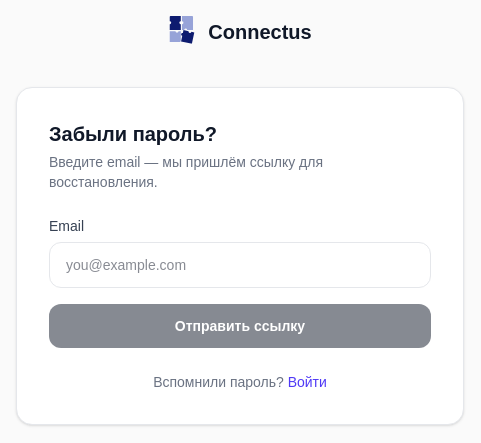
Test: ForgotPasswordPage › shows the generic success screen after a successful submit
Step 1. Type "student@example.com" into the field with placeholder "you@example.com" → x=240, y=264, box x1=49 y1=242 x2=431 y2=288
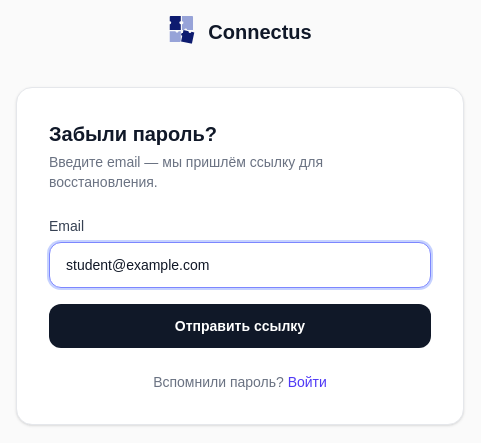
Step 2. Click the button "Отправить ссылку" → x=240, y=326, box x1=49 y1=304 x2=431 y2=348
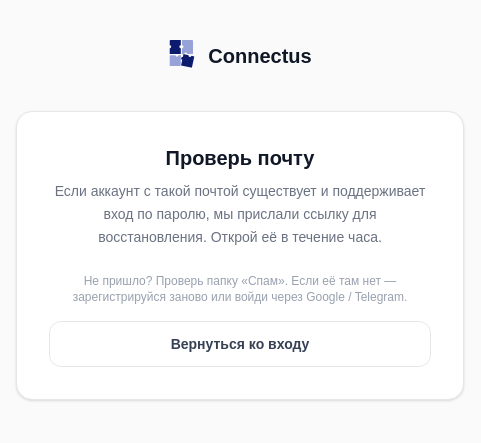
Now the heading "Проверь почту" is shown, box x1=166 y1=147 x2=314 y2=169
